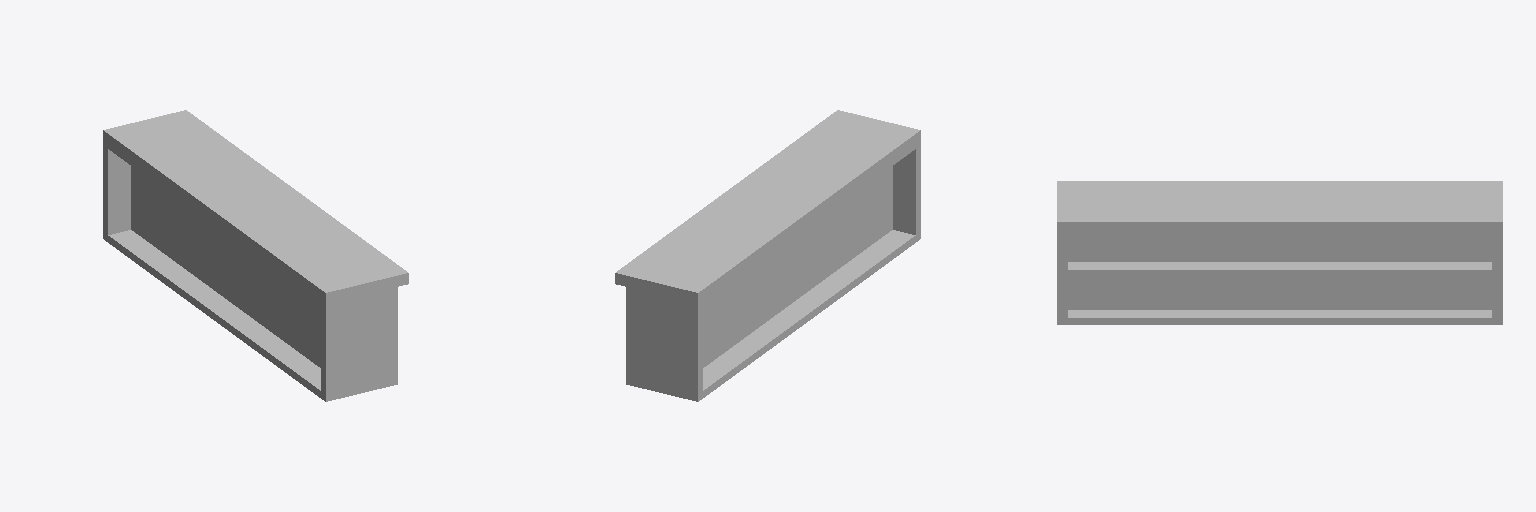
Rendered from register_counter.obj.
The picture shows the model from 3 angles: view 1: azimuth 30°, elevation 25°; view 2: azimuth 150°, elevation 25°; view 3: azimuth 270°, elevation 25°; orthographic projection.
Parts seen in each view (by area): view 1: Cube.007; view 2: Cube.007; view 3: Cube.007.
Part boxes in pixels (x1,y1,x2,y2): Cube.007: (103,110,408,401); Cube.007: (615,110,920,401); Cube.007: (1057,181,1502,324).
Bounding box in the file's own units: 1.41 × 1.77 × 6.55.